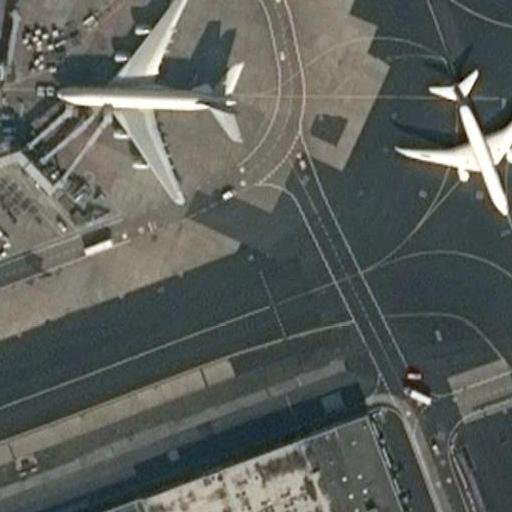Aircraft: (49, 0, 263, 203), (390, 65, 512, 213)
